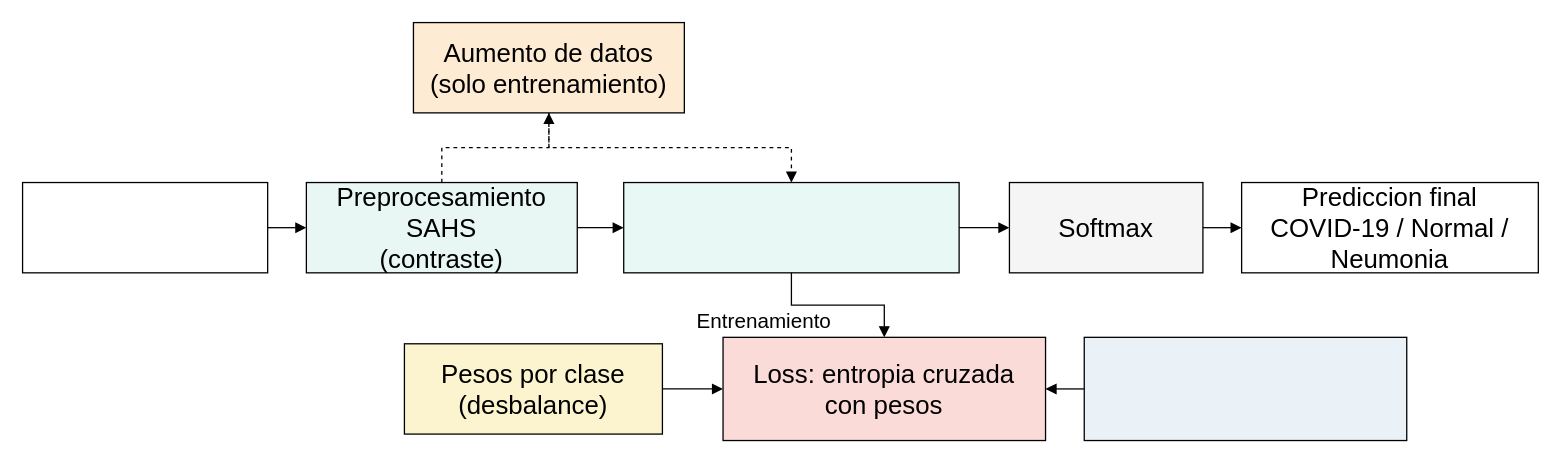
This 1561x463 diagram has some shape labels left out. Each missing label, with the box of its shape:
Config entrenamiento LR, batch, epocas, parada temprana: (1083, 336, 1407, 441)
Imagen normalizada (224x224): (21, 181, 268, 273)
ResNet-18 preentrenada + FC 3 clases: (622, 181, 959, 273)
